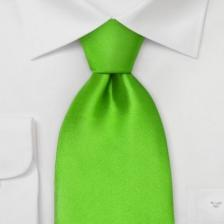green: (55, 19, 174, 224), (55, 73, 174, 224)
